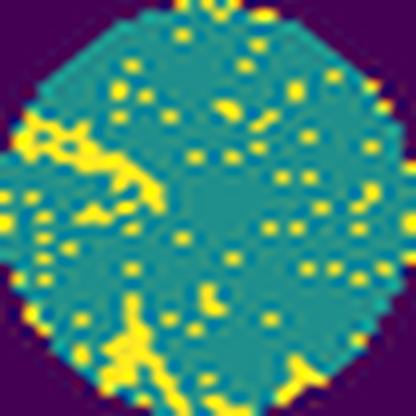Loc: (13, 110, 165, 226), (94, 286, 190, 416)
